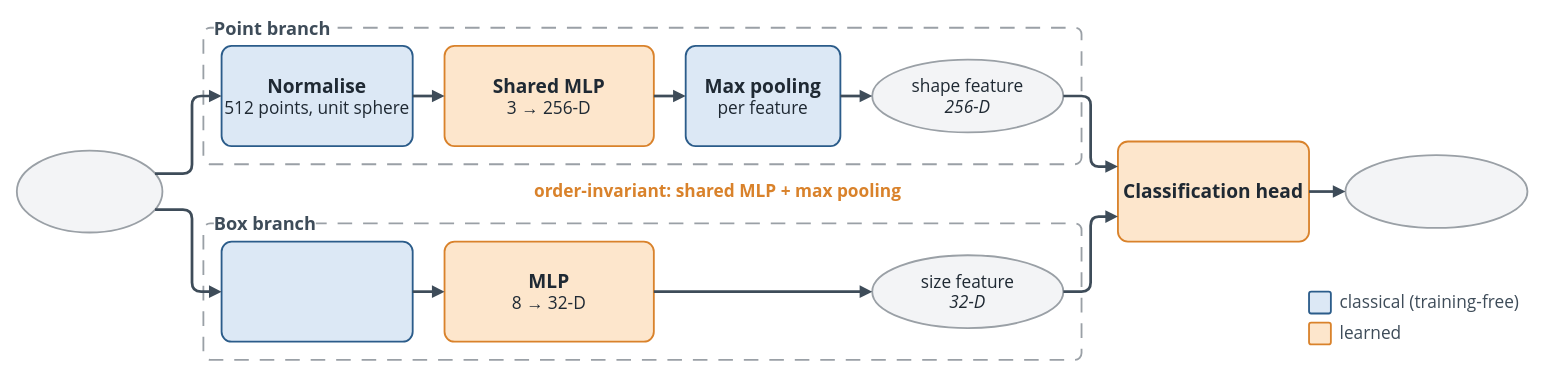
The diagram is 1562 pixels wide and 376 high, and some of its shapes have lost their labels. The shapes that lost their labels are listed below. From the top down, each one's box as (x1, y1, x2, y2) in pixels, then its label:
(15, 149, 163, 233): one cluster
(1344, 154, 1528, 228): car / not-car
(220, 240, 413, 342): OBB features extents, volume, aspect ratio, ...
